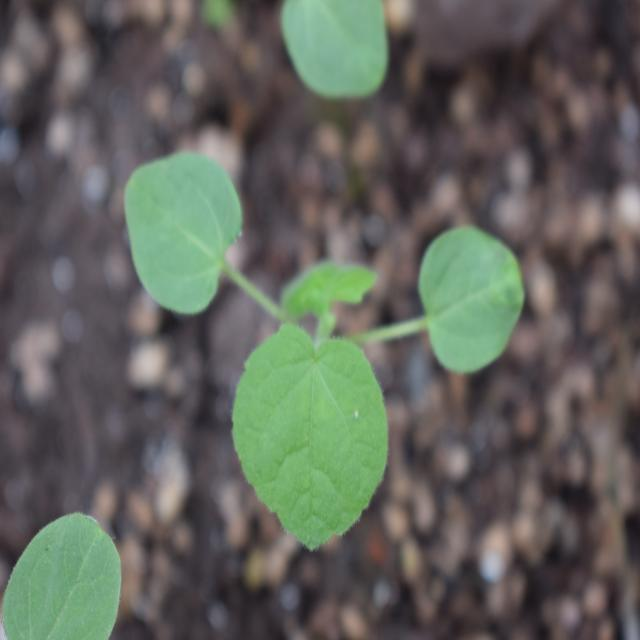abutilon theophrasti: (118, 146, 537, 561)
